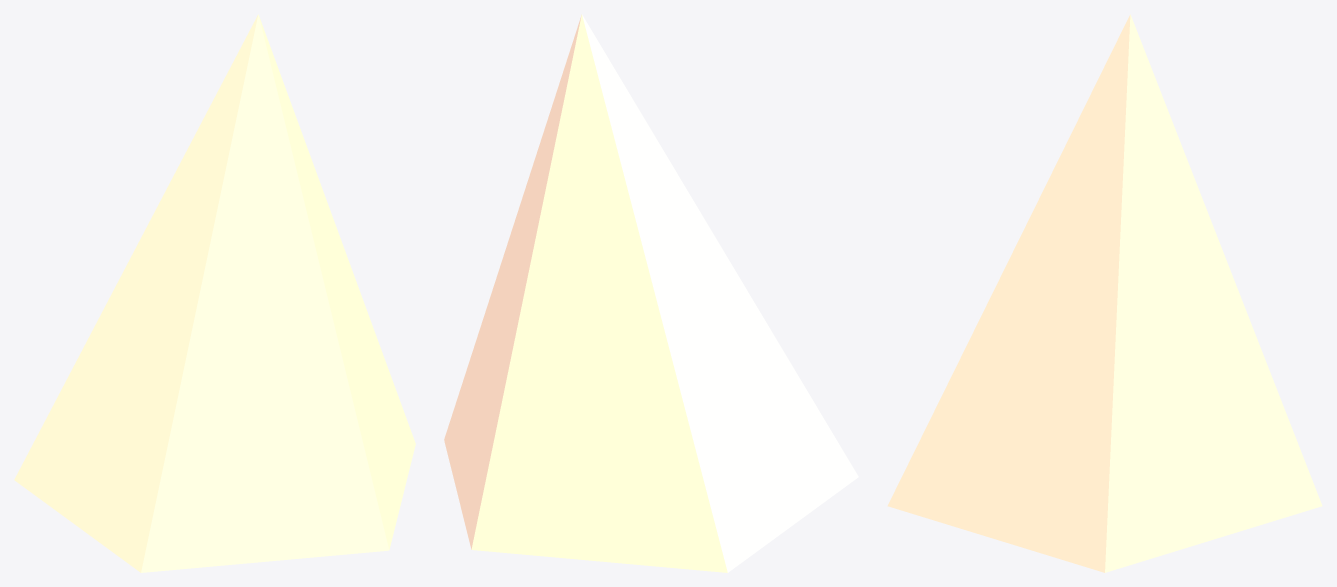
The model's file is Cinder_Shard.glb.
3 views of the same model, side by side, from view 1: azimuth 30°, elevation 25°; view 2: azimuth 150°, elevation 25°; view 3: azimuth 270°, elevation 25° (orthographic). The views are drawn at different scales.
Parts seen in each view (by area): view 1: CinderShard; view 2: CinderShard; view 3: CinderShard.
Part boxes in pixels (x1=…): CinderShard: x1=14, y1=14, x2=415, y2=572; CinderShard: x1=444, y1=14, x2=858, y2=572; CinderShard: x1=887, y1=14, x2=1322, y2=572.
Bounding box in the file's own units: 0.3256 × 0.46 × 0.3424.
